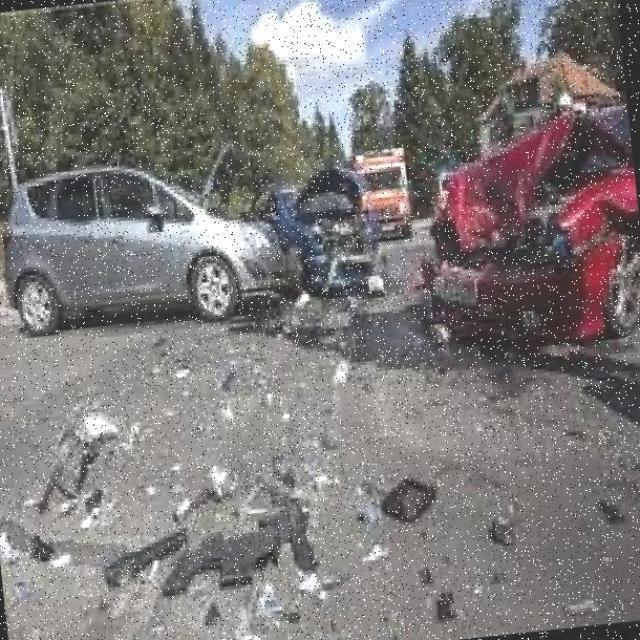accident: (125, 104, 399, 347), (399, 97, 640, 352)
